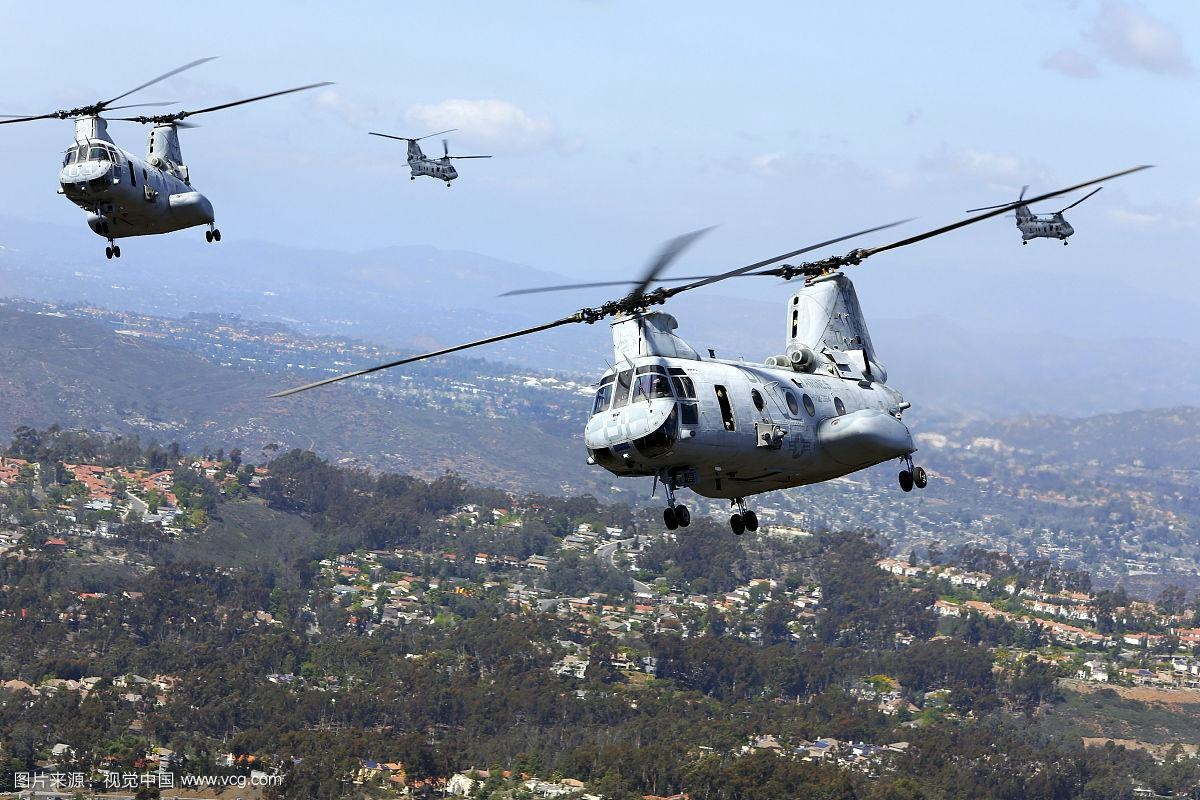airplane: (252, 159, 1167, 539), (8, 44, 340, 257), (364, 126, 491, 194)
